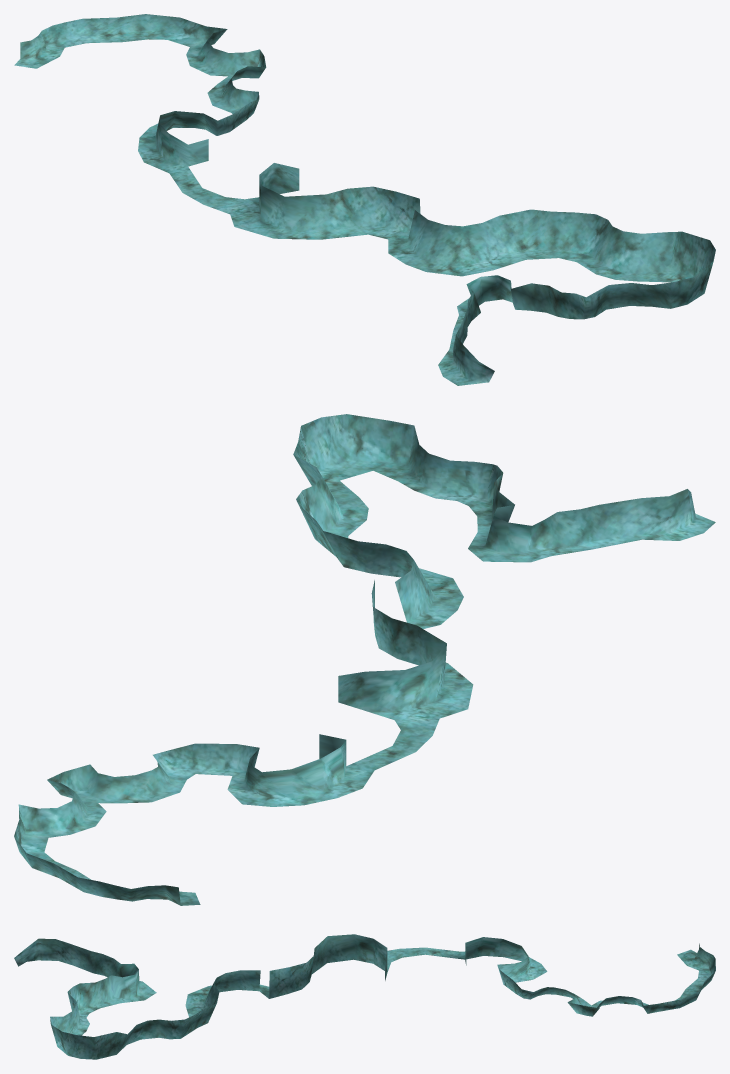
The model's file is EKH_GROTTO_PS_GR_OBJECT30.fbx.
The picture shows the model from 3 angles, top to bottom: view 1: azimuth 30°, elevation 25°; view 2: azimuth 150°, elevation 25°; view 3: azimuth 270°, elevation 25°; orthographic projection. The views are drawn at different scales.
Visible parts, largest first — view 1: EKH_GROTTO_PS_GR_OBJECT30; view 2: EKH_GROTTO_PS_GR_OBJECT30; view 3: EKH_GROTTO_PS_GR_OBJECT30.
Boxes of the visible parts, <box> form: EKH_GROTTO_PS_GR_OBJECT30: <box>14,14,715,385</box>; EKH_GROTTO_PS_GR_OBJECT30: <box>14,414,715,905</box>; EKH_GROTTO_PS_GR_OBJECT30: <box>14,934,715,1059</box>.
Bounding box in the file's own units: 154231 × 19291 × 393149.
Materials: 1 (1 with a texture image).
